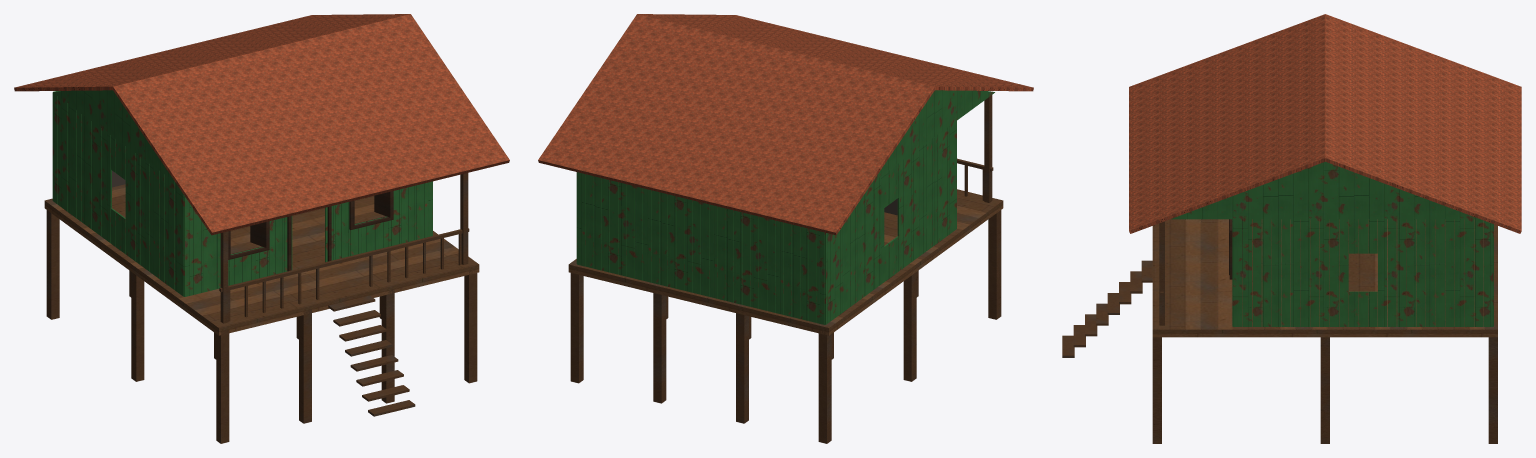
The model's file is rumah_b.glb.
The picture shows the model from 3 angles, left to right: view 1: azimuth 30°, elevation 25°; view 2: azimuth 150°, elevation 25°; view 3: azimuth 270°, elevation 25°; orthographic projection.
Parts seen in each view (by area): view 1: rumah_b_genteng, rumah_b_cat_hijau, rumah_b_kayu_balok, rumah_b_kayu_papan, rumah_b_kayu_tua; view 2: rumah_b_genteng, rumah_b_cat_hijau, rumah_b_kayu_balok, rumah_b_kayu_papan; view 3: rumah_b_genteng, rumah_b_cat_hijau, rumah_b_kayu_papan, rumah_b_kayu_balok.
Part boxes in pixels (left/top/right/bottom): rumah_b_genteng: left=14, top=14, right=509, bottom=235; rumah_b_cat_hijau: left=52, top=90, right=432, bottom=296; rumah_b_kayu_balok: left=46, top=173, right=477, bottom=443; rumah_b_kayu_papan: left=44, top=184, right=479, bottom=335; rumah_b_kayu_tua: left=228, top=191, right=393, bottom=271; rumah_b_genteng: left=538, top=14, right=1033, bottom=235; rumah_b_cat_hijau: left=576, top=90, right=994, bottom=324; rumah_b_kayu_balok: left=570, top=95, right=1001, bottom=443; rumah_b_kayu_papan: left=568, top=189, right=1003, bottom=335; rumah_b_genteng: left=1129, top=14, right=1521, bottom=233; rumah_b_cat_hijau: left=1171, top=161, right=1493, bottom=326; rumah_b_kayu_papan: left=1152, top=219, right=1497, bottom=337; rumah_b_kayu_balok: left=1062, top=221, right=1497, bottom=443.
Size of the model in its own units: 7.2 by 6.9 by 9.71.
Materials: 6 (5 with a texture image).
